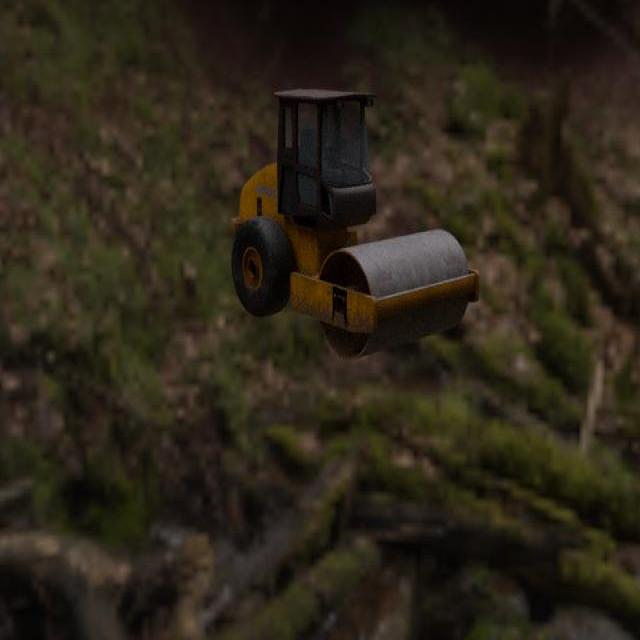Roller: (230, 88, 480, 360)
